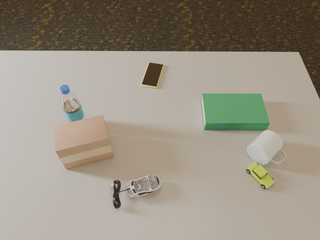book: (201, 94, 270, 130)
bottle: (60, 85, 85, 123)
box: (53, 115, 113, 169)
cup: (247, 130, 285, 165)
mouse: (126, 175, 161, 197)
phone: (141, 63, 164, 88)
toy_car: (246, 162, 275, 189)
